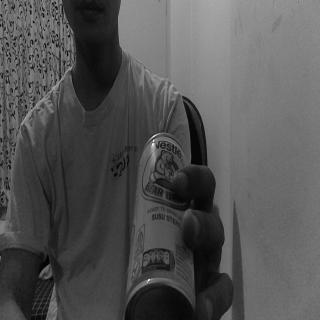alumunium_can: (129, 131, 198, 316)
